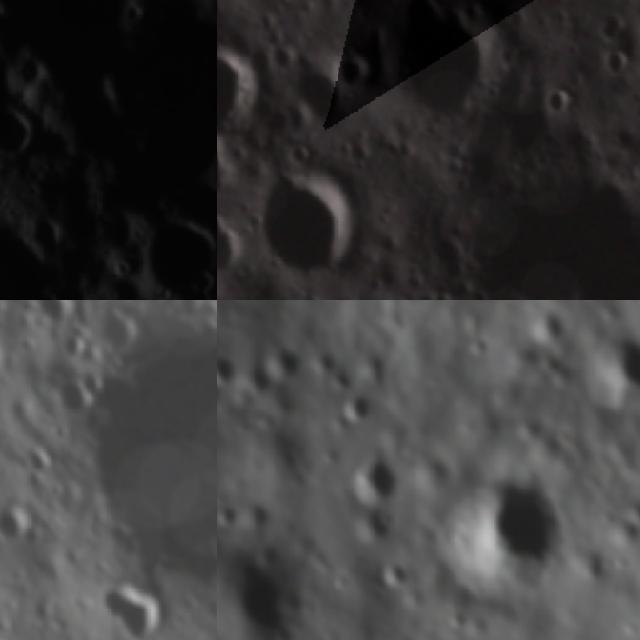crater: (60, 300, 217, 575), (483, 171, 640, 300), (436, 480, 572, 602), (391, 0, 500, 125), (255, 174, 368, 284), (217, 553, 311, 640), (217, 41, 268, 149), (290, 63, 352, 134), (591, 331, 640, 408), (344, 448, 402, 506), (423, 226, 471, 276), (217, 207, 247, 281), (332, 46, 379, 93), (264, 338, 308, 384), (527, 302, 573, 345), (595, 44, 640, 86), (542, 81, 582, 126), (356, 500, 396, 542), (340, 390, 377, 427), (244, 360, 280, 393), (594, 11, 628, 45), (471, 281, 531, 300), (463, 329, 491, 364), (217, 352, 240, 389), (382, 560, 412, 588), (309, 0, 346, 20), (217, 500, 239, 532), (626, 496, 640, 530), (217, 169, 230, 198)
